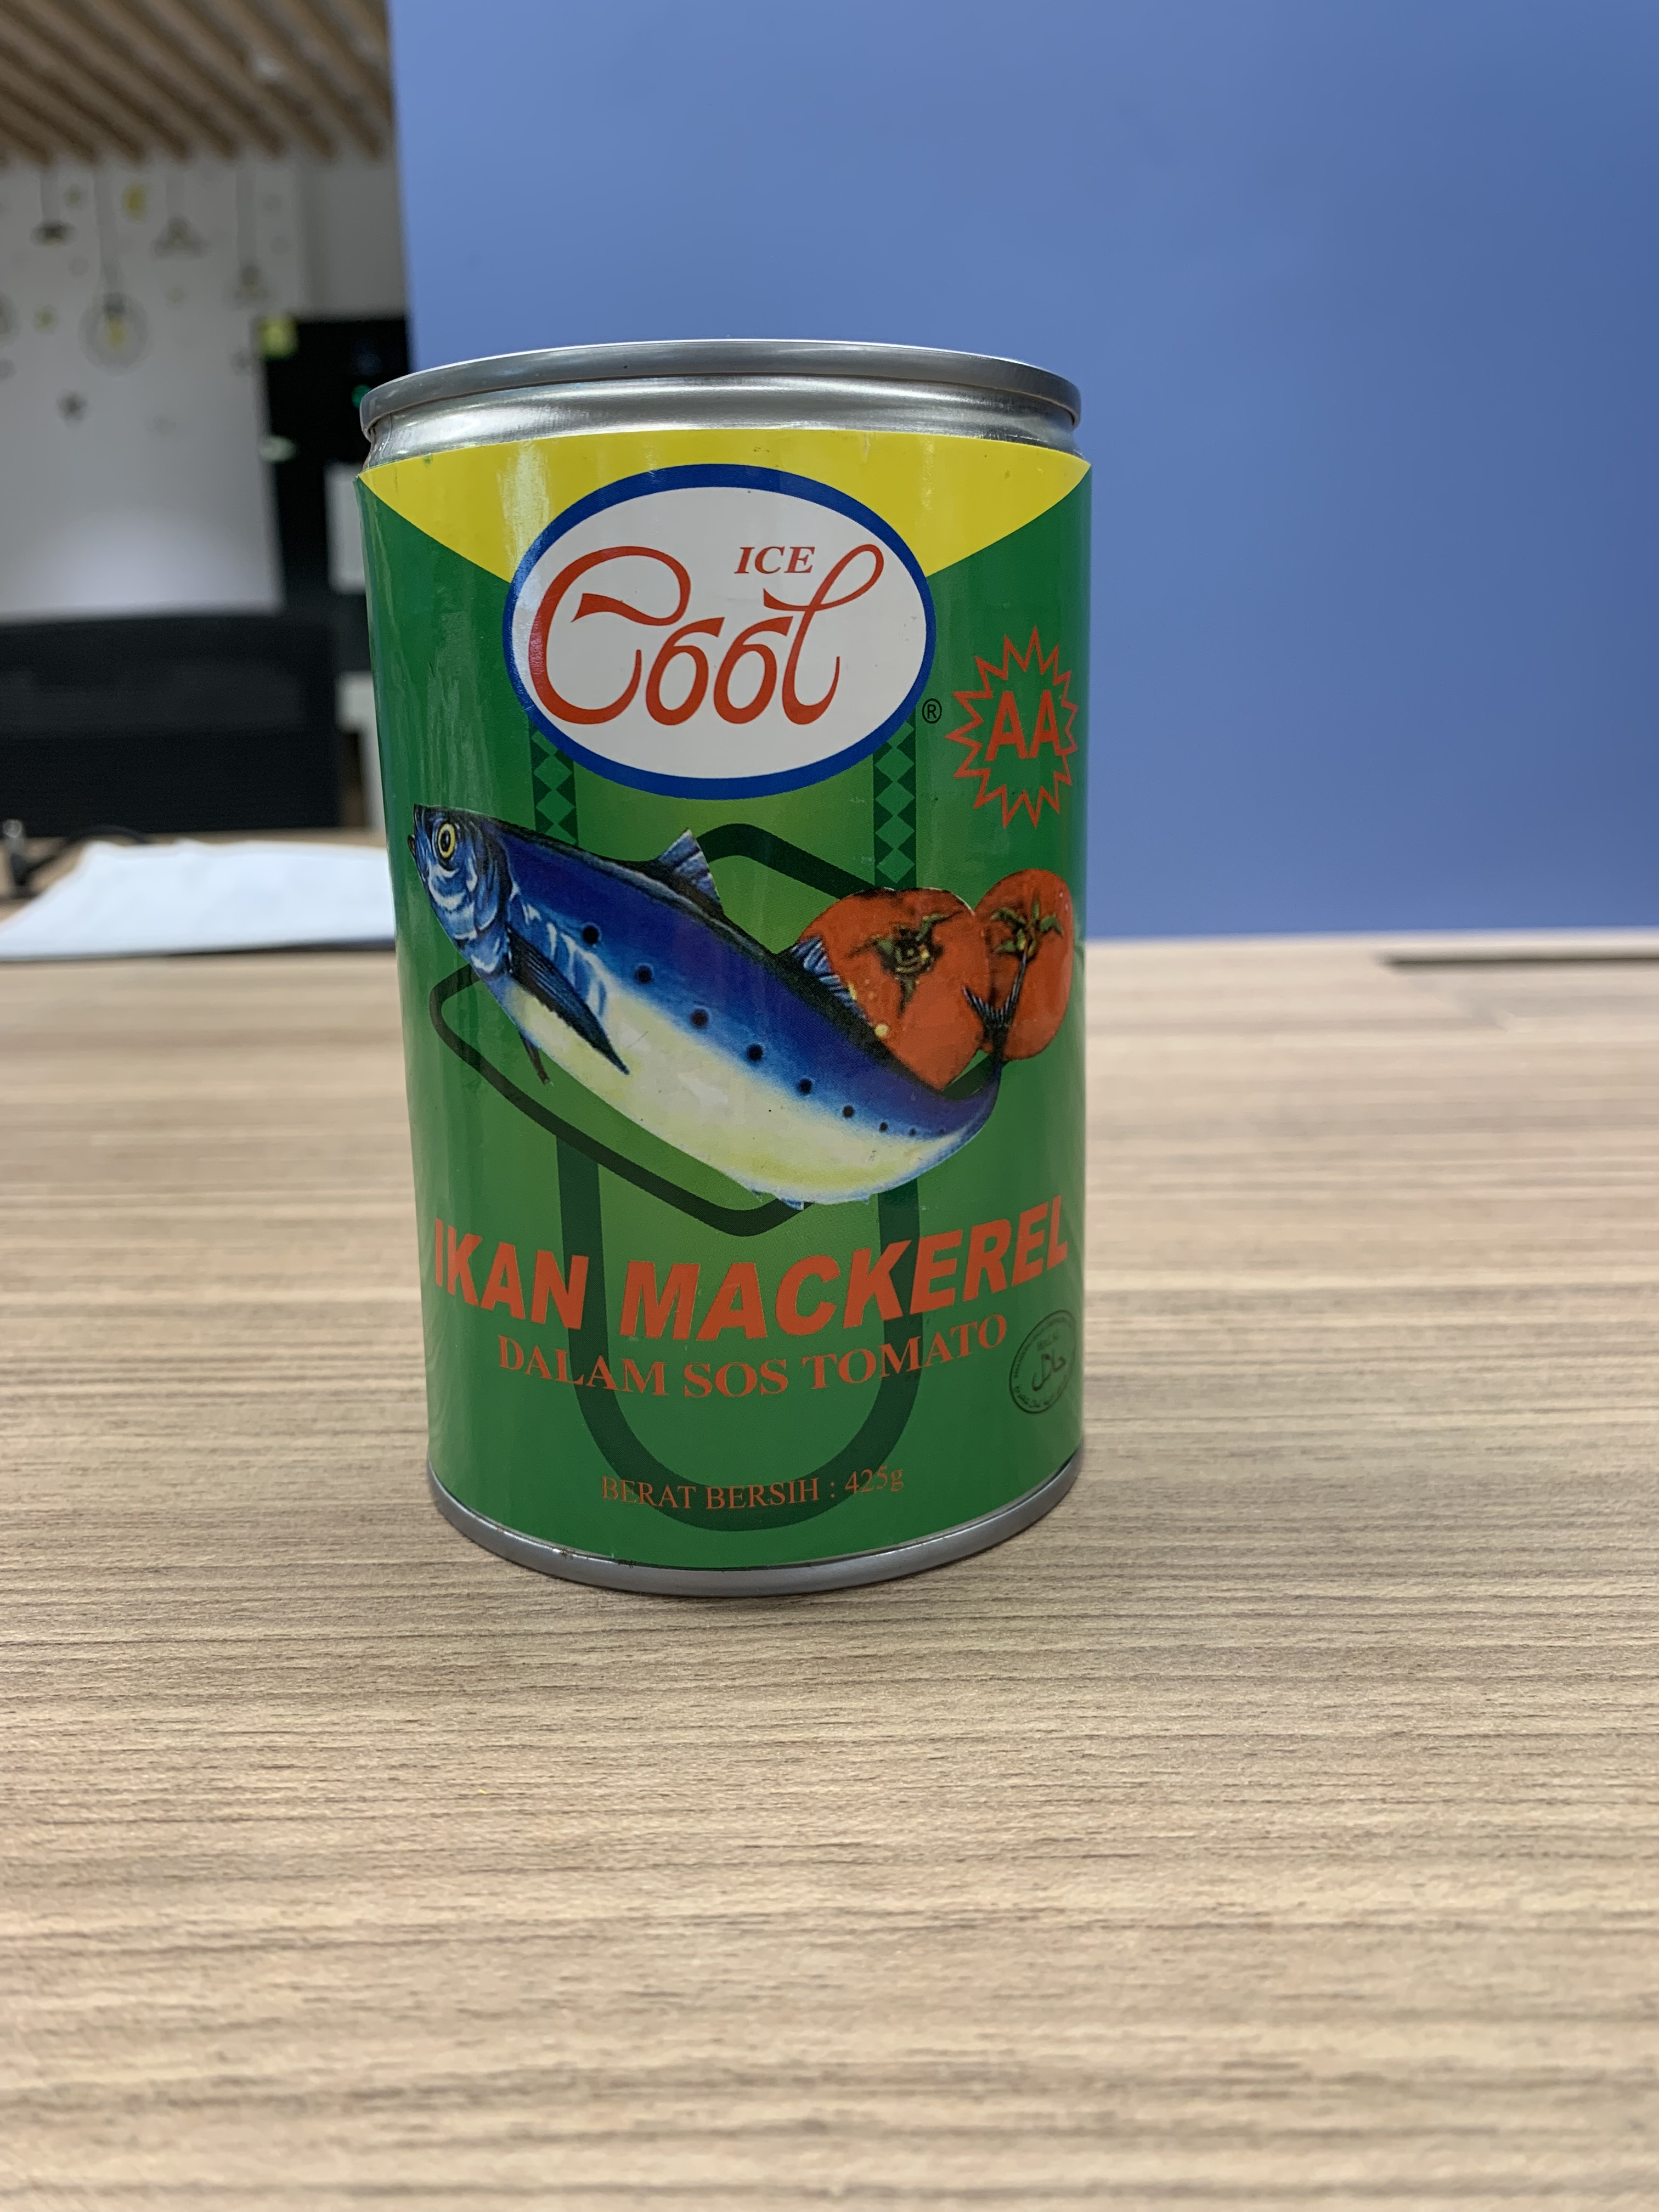sardines: (345, 310, 1121, 1608)
